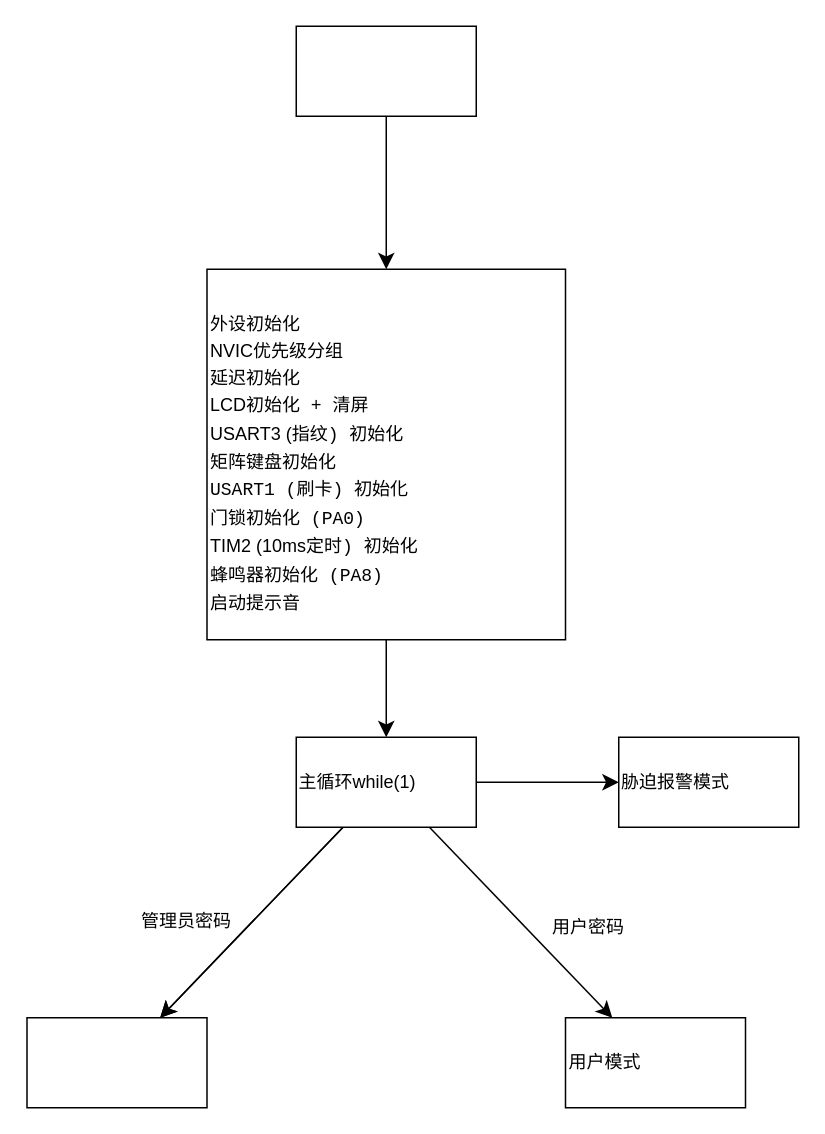
This 825x1134 diagram has some shape labels left out. Each missing label, with the centre of its shape:
"main()" goes at pixel 385 70.
"管理员模式" goes at pixel 116 1062.
